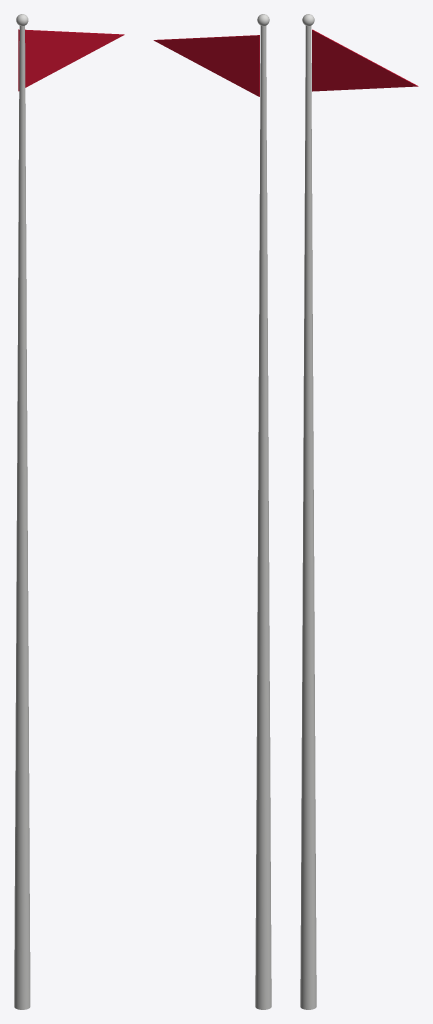
The model's file is a12-regatta-flagpole.glb.
3 views of the same model, side by side, from view 1: azimuth 30°, elevation 25°; view 2: azimuth 150°, elevation 25°; view 3: azimuth 330°, elevation 25° (orthographic).
Parts seen in each view (by area): view 1: part0, part1; view 2: part0, part1; view 3: part0, part1.
Boxes of the visible parts, box(x1,y1,x2,y2) form: part0: box(14, 14, 30, 1009); part1: box(18, 29, 124, 91); part0: box(255, 14, 271, 1009); part1: box(153, 35, 259, 96); part0: box(300, 14, 316, 1009); part1: box(312, 29, 418, 91).
Size of the model in its own units: 960 by 8045 by 120.
